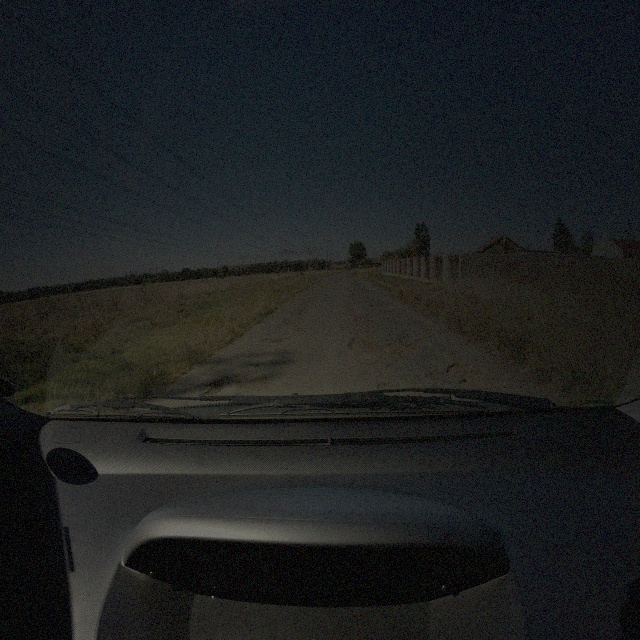pothole: (445, 353, 489, 393), (344, 335, 424, 353), (202, 380, 224, 399), (380, 383, 400, 398), (425, 368, 446, 378), (357, 316, 371, 329), (271, 335, 290, 344), (296, 307, 307, 316), (292, 325, 306, 332), (397, 313, 406, 322)
